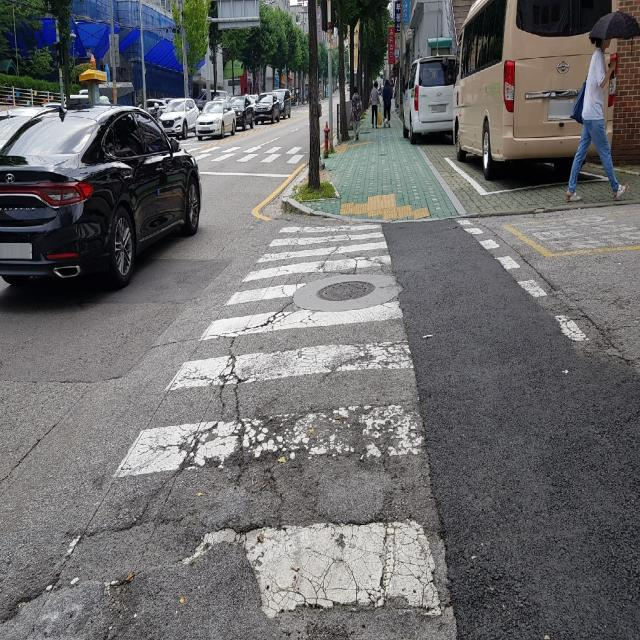횡단보도: (24, 224, 441, 622), (195, 132, 308, 172)
